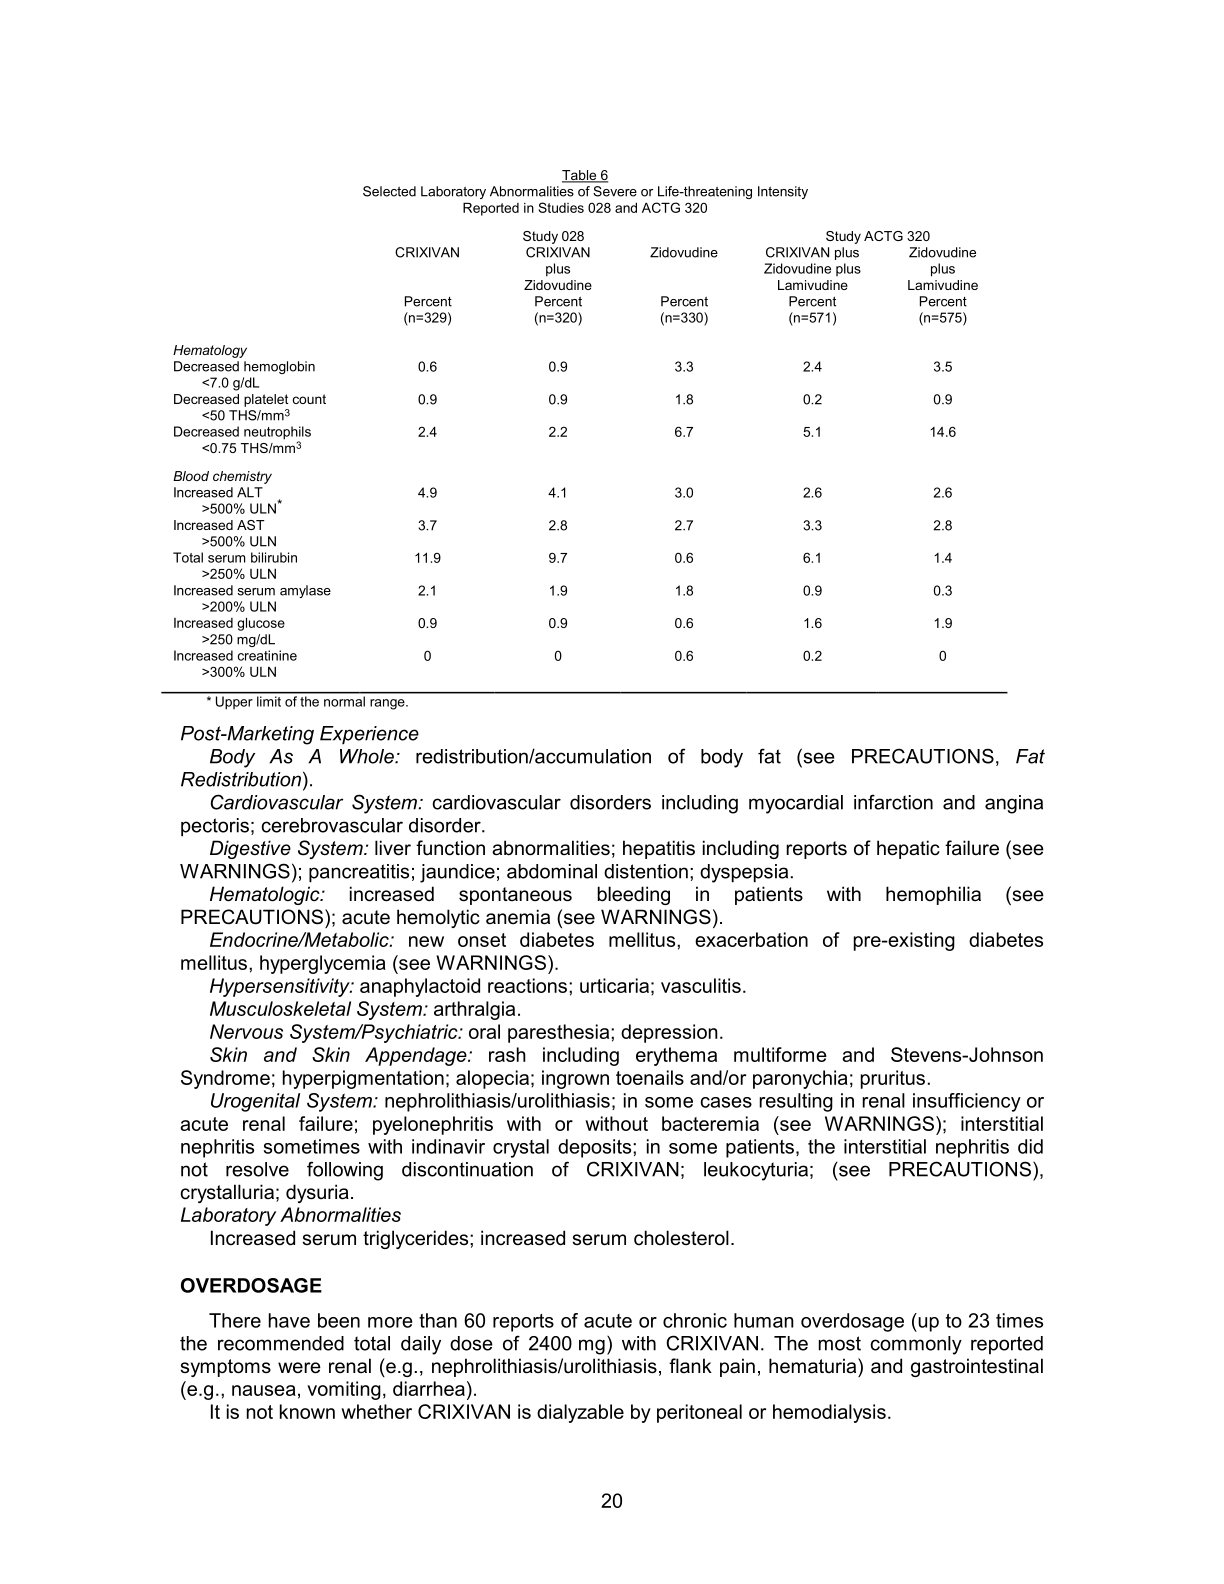nolines: (168, 224, 984, 681)
